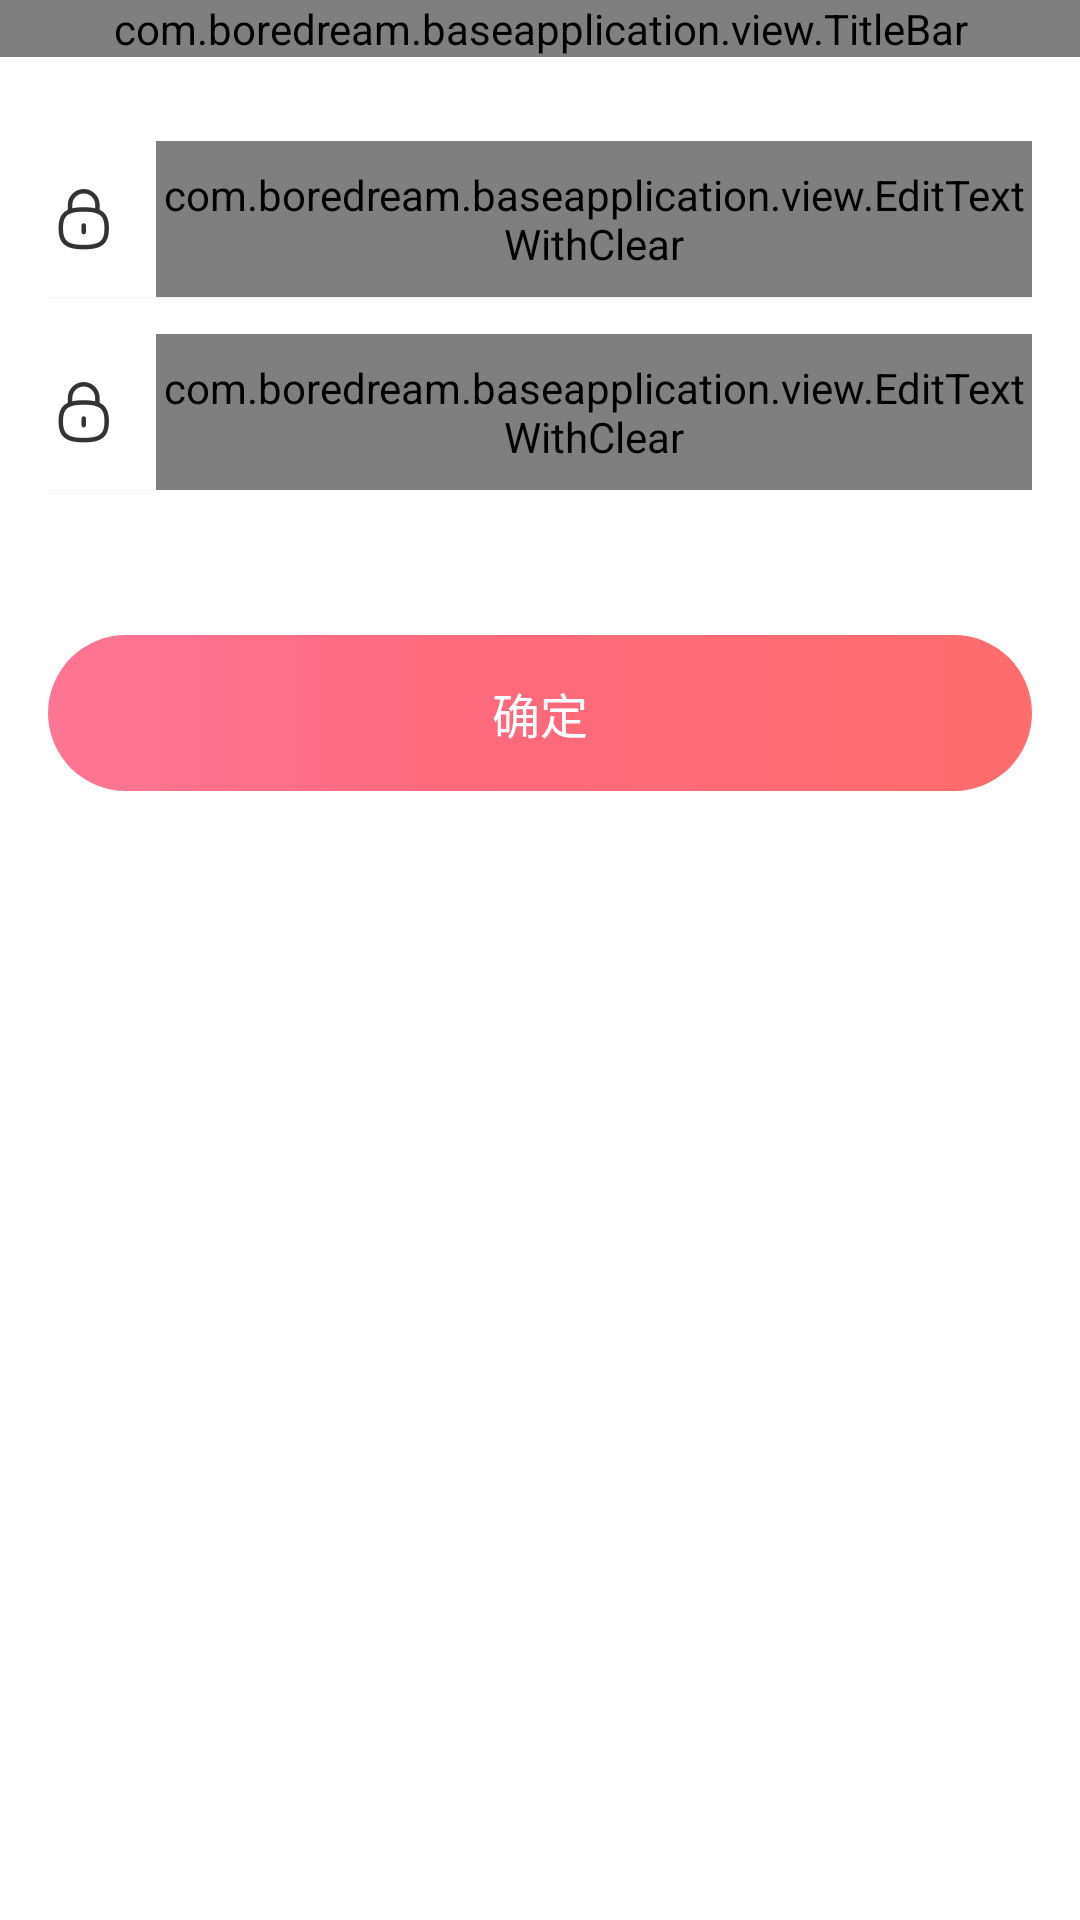

Where to tap for icons on this 1080×1920 app screen, as [x,y]:
password: [83,219], [83,412]
